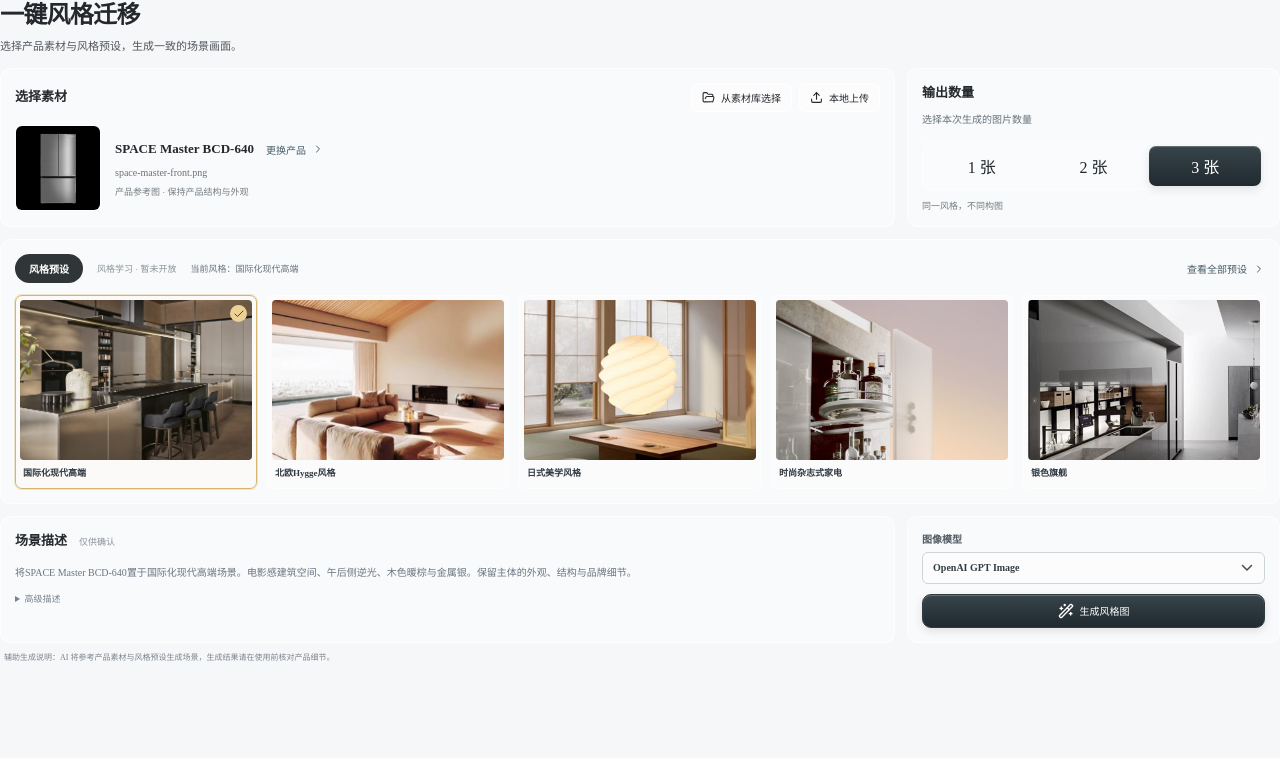
Scenario: one-click style transfer › generates exactly 1 downloadable outputs
Expected: the button "生成风格图" is enabled, [922,594,1265,628]
Click the radio button labelled "1 张" at (982, 166), box [926,146,1038,186]
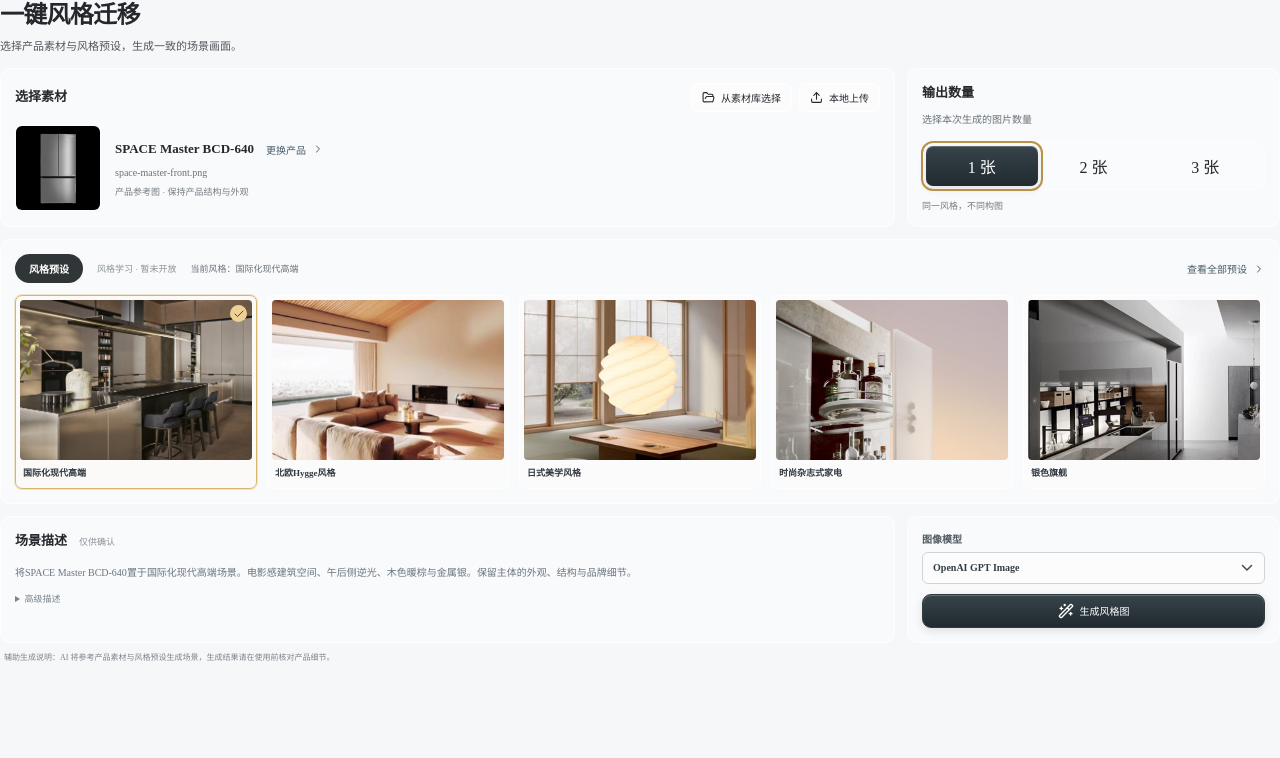
Click the button "生成风格图" at (1094, 611), box [922,594,1265,628]
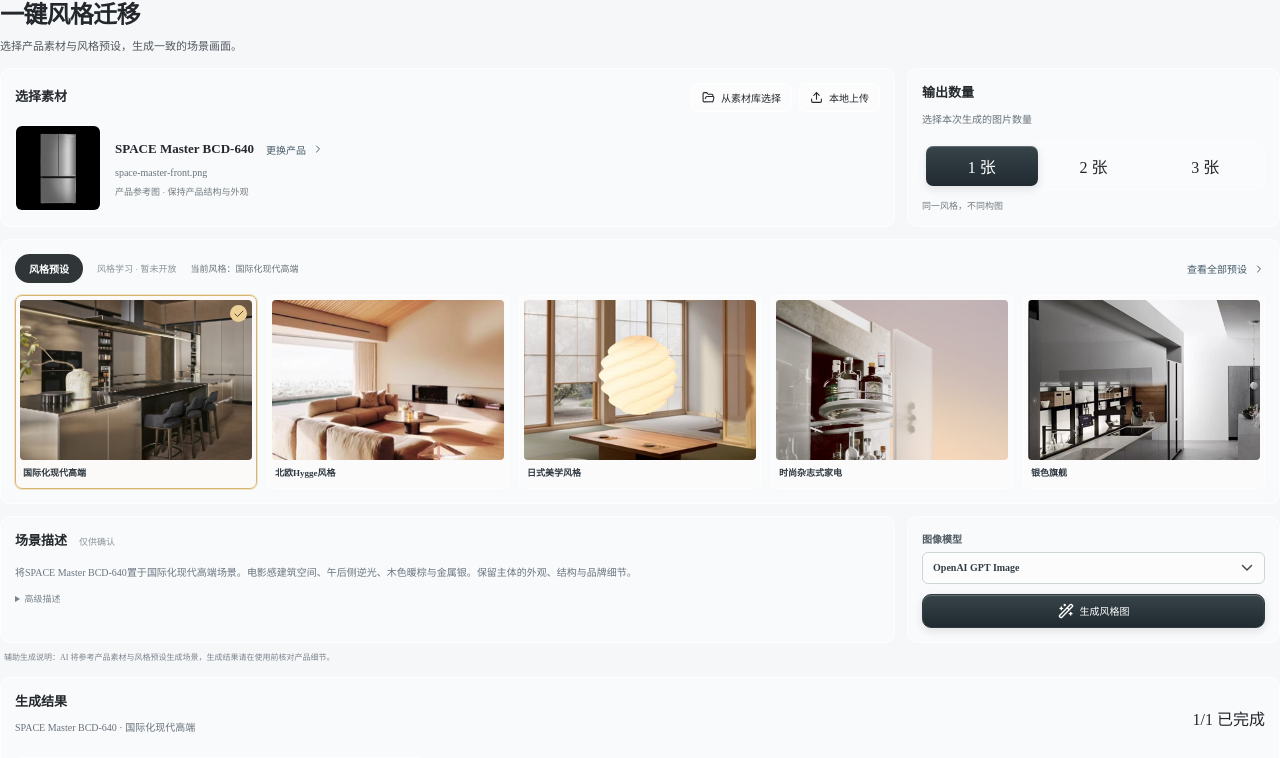
Result: the text "1/1 已完成" is shown at [1192,706,1265,730]
